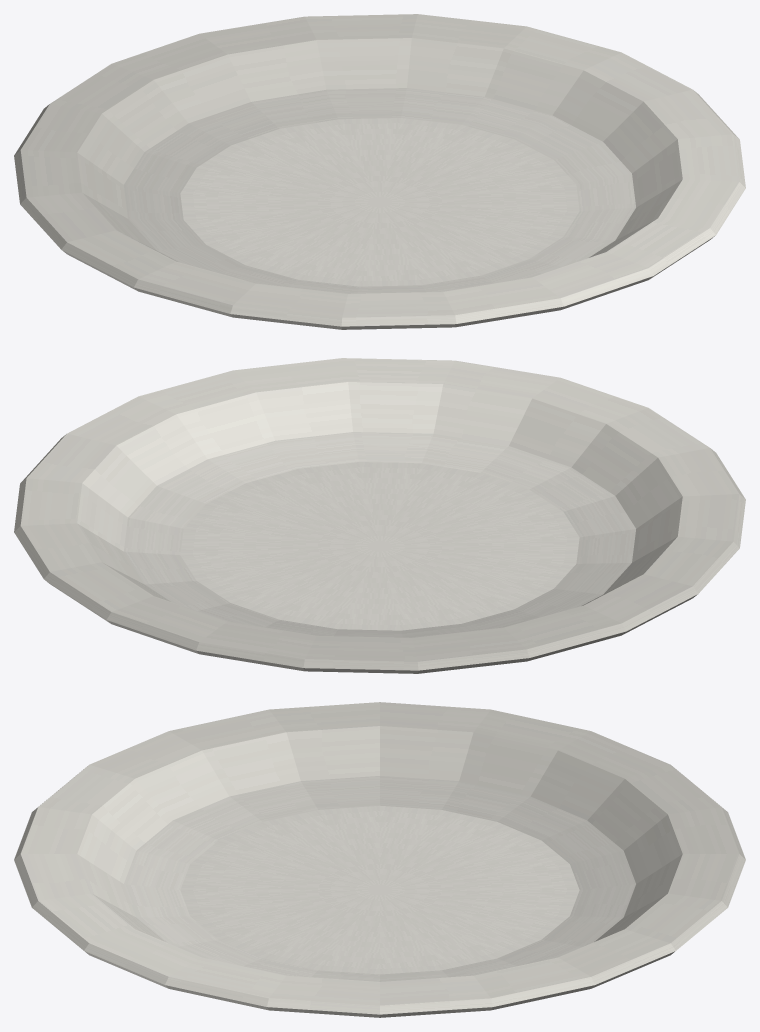
Rendered from plate.glb.
3 renders of one model, top to bottom at view 1: azimuth 30°, elevation 25°; view 2: azimuth 150°, elevation 25°; view 3: azimuth 270°, elevation 25°, orthographic.
Visible parts, largest first — view 1: home_plate; view 2: home_plate; view 3: home_plate.
Boxes of the visible parts, x1,y1,x2,y2 form: home_plate: (14,14,745,329); home_plate: (14,358,745,673); home_plate: (14,702,745,1017).
Bounding box in the file's own units: 0.22 × 0.022 × 0.22.
1 material, 1 textured.
